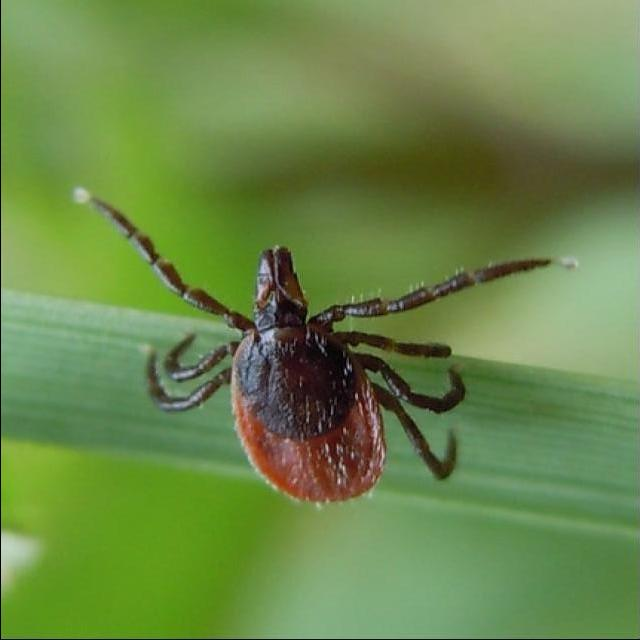Ixodes Ricinus-F: (74, 188, 578, 509)
